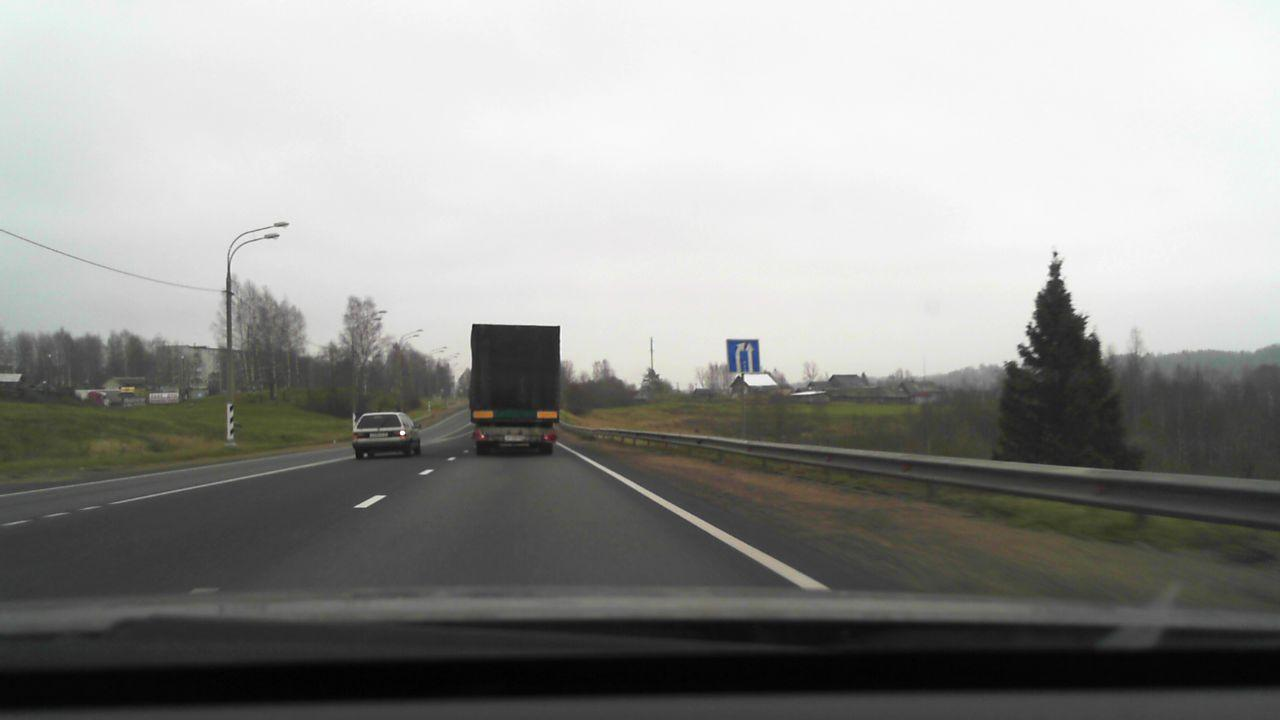5_15_6: (725, 338, 759, 372)
